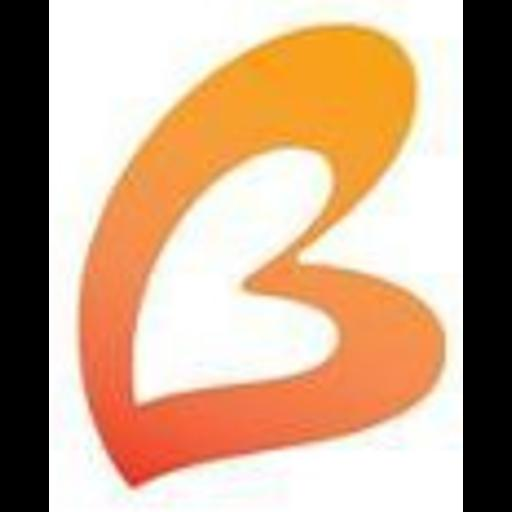Bethpage Federal Credit Union: (49, 0, 463, 512)
